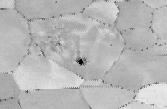good_void: (76, 56, 89, 67)
